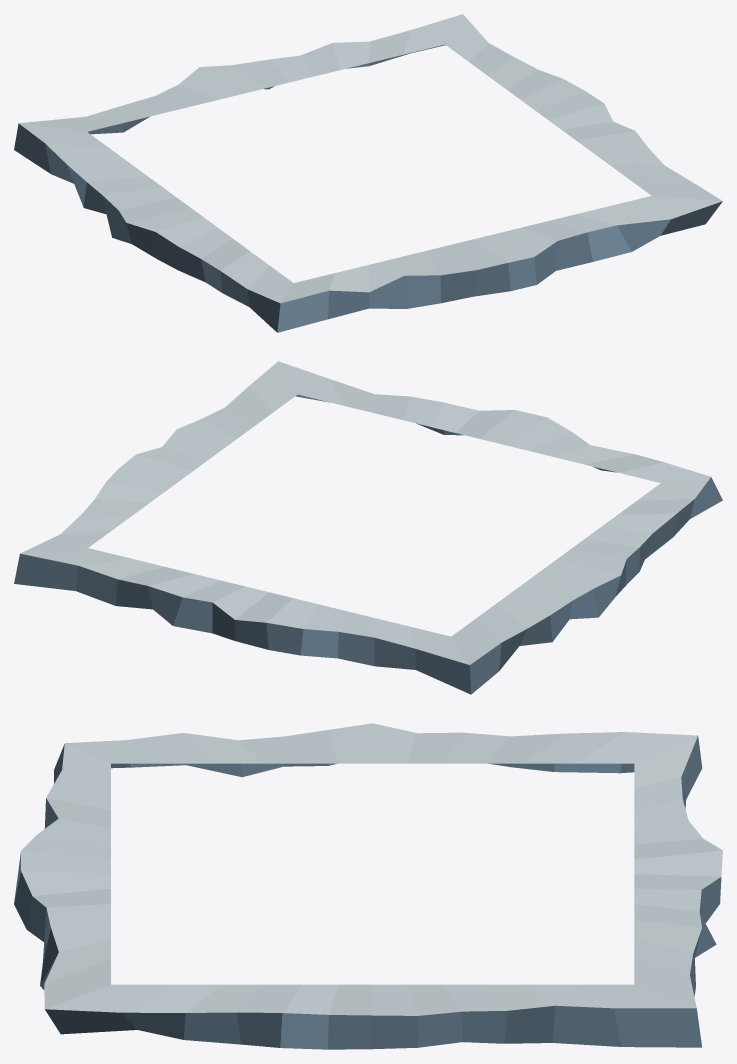
File: entorno.glb
3 renders of one model, top to bottom at view 1: azimuth 30°, elevation 25°; view 2: azimuth 150°, elevation 25°; view 3: azimuth 270°, elevation 25°, orthographic. The views are drawn at different scales.
Parts seen in each view (by area): view 1: neve_entorno; view 2: neve_entorno; view 3: neve_entorno.
Part boxes in pixels (x1,y1,x2,y2): neve_entorno: (14, 14, 722, 332); neve_entorno: (14, 361, 722, 694); neve_entorno: (14, 723, 722, 1049).
Bounding box in the file's own units: 16.31 × 1.06 × 16.52.
